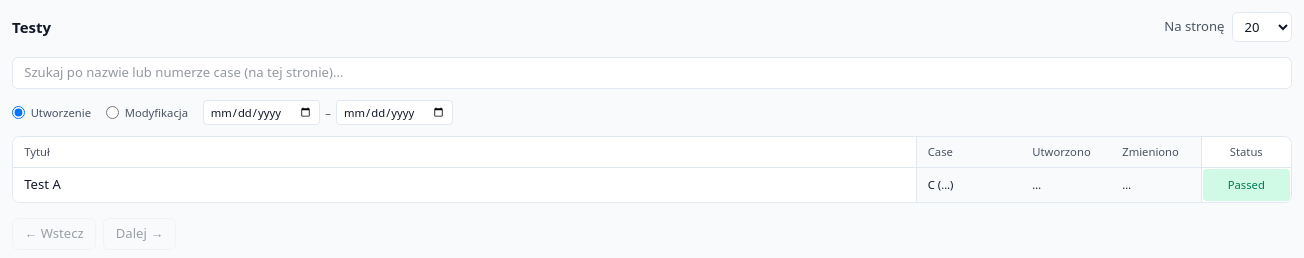
TestList › przycisk "Wyczyść filtry" pojawia się po ustawieniu filtra i czyści wszystkie pola
In the field with test id "tests-search": (652, 72) [12, 56, 1292, 88], type "Test A"
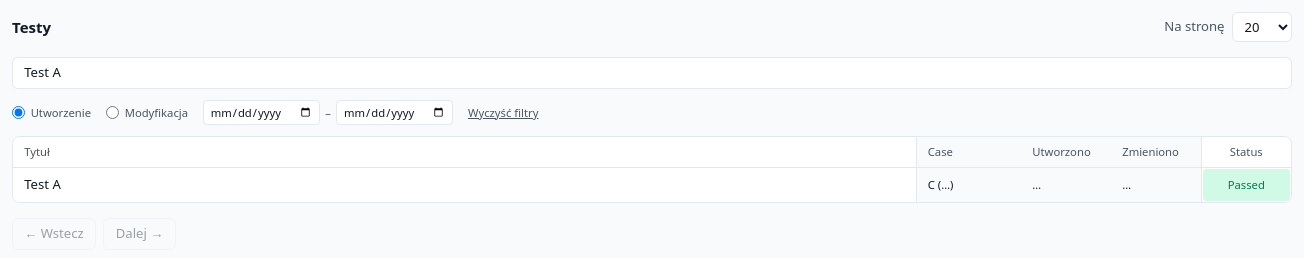
expect the button with test id "filter-tests-clear" is shown: met
Click the button with test id "filter-tests-clear": (503, 112) [468, 105, 538, 120]
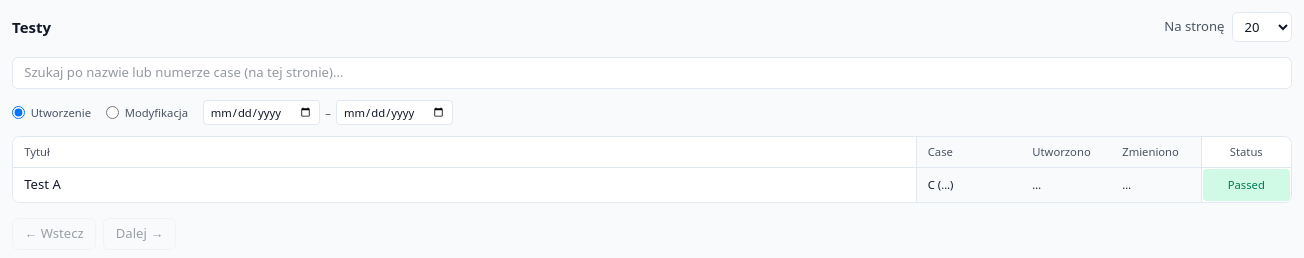
expect the field with test id "tests-search" is empty: met, box [12, 56, 1292, 88]
